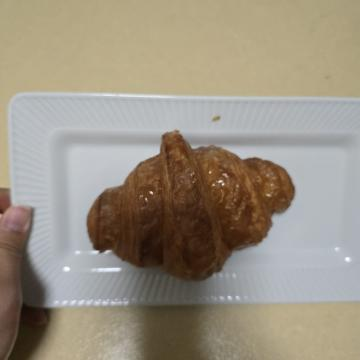croissant: (119, 58, 294, 282)
